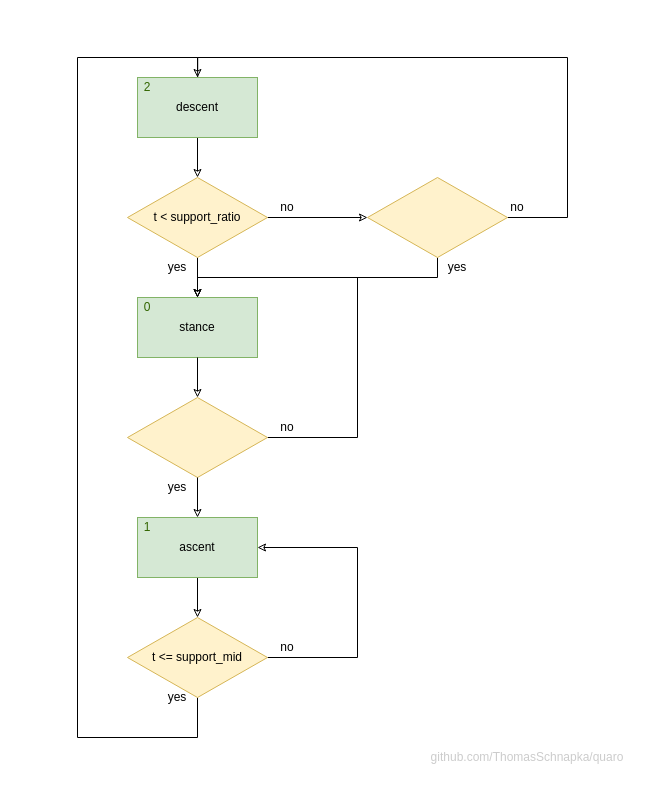
Image size: 654x794. Some labels were removed from this diagram. Each missing label, with the centre of its shape:
contact detected by sensor: (437,217)
t >= support_ratio: (197,437)
